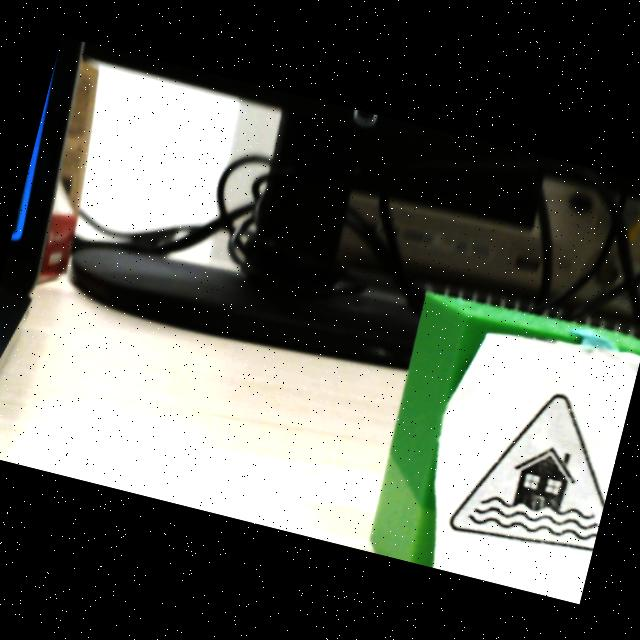Tsunami: (448, 394, 604, 551)
